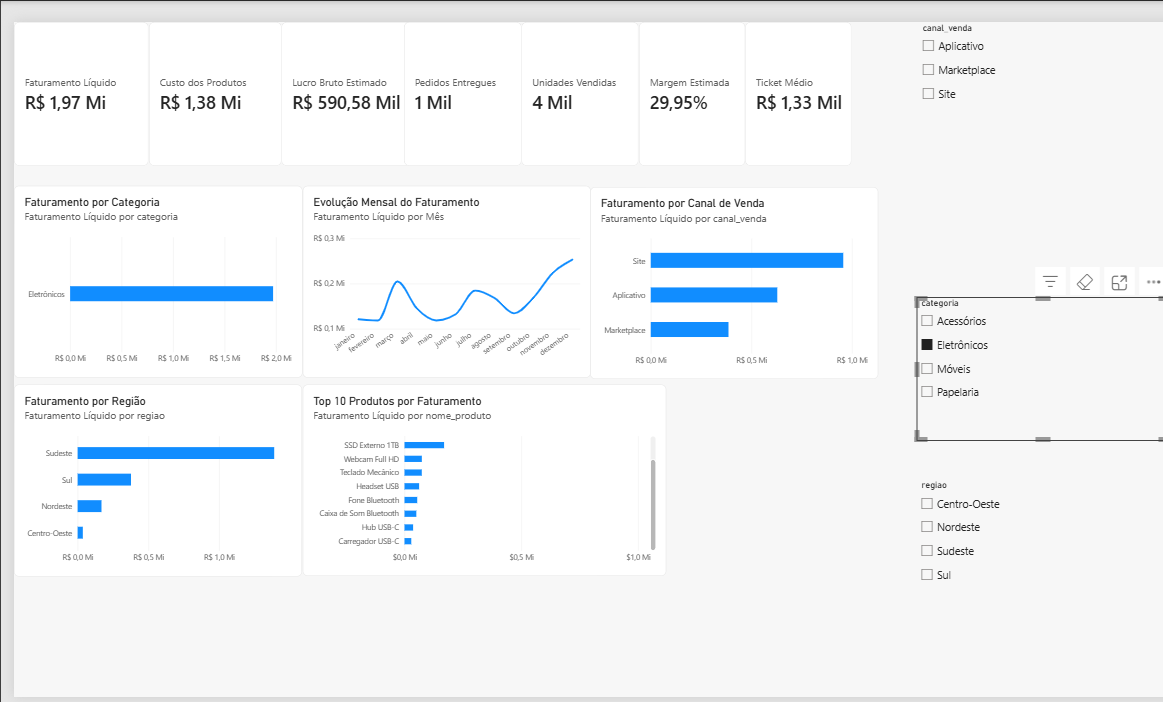

The dashboard page shown, as its layout file describes it:
{"tool":"powerbi","page":{"name":"Página 1","canvas":[1920,1080],"ordinal":0},"visuals":[{"type":"cardVisual","fields":{"Data":["itens_pedido.Faturamento Líquido"]},"box":[0,0,215.7,230],"z":0},{"type":"cardVisual","fields":{"Data":["itens_pedido.Custo dos Produtos"]},"box":[215.7,0,212.9,230],"z":1},{"type":"cardVisual","fields":{"Data":["itens_pedido.Lucro Bruto Estimado"]},"box":[428.6,0,207.1,230],"z":2},{"type":"cardVisual","fields":{"Data":["itens_pedido.Pedidos Entregues"]},"box":[624.3,0,188.6,230],"z":3},{"type":"cardVisual","fields":{"Data":["itens_pedido.Unidades Vendidas"]},"box":[812.9,0,187.1,230],"z":4},{"type":"cardVisual","fields":{"Data":["itens_pedido.Margem Estimada"]},"box":[1000,0,170,230],"z":5},{"type":"cardVisual","fields":{"Data":["itens_pedido.Ticket Médio"]},"box":[1170,0,170,230],"z":6},{"type":"clusteredBarChart","title":"Faturamento por Categoria","fields":{"Category":["produtos.categoria"],"Y":["itens_pedido.Faturamento Líquido"]},"box":[0,262.9,461.4,307.1],"z":7},{"type":"lineChart","title":"Evolução Mensal do Faturamento","fields":{"Category":["pedidos.data_pedido.Variation.Hierarquia de datas.Mês","pedidos.data_pedido.Variation.Hierarquia de datas.Dia"],"Y":["itens_pedido.Faturamento Líquido"]},"box":[461.4,262.9,461,307],"z":8},{"type":"clusteredBarChart","title":"Faturamento por Canal de Venda","fields":{"Category":["pedidos.canal_venda"],"Y":["itens_pedido.Faturamento Líquido"]},"box":[922.9,264.3,461,307],"z":9},{"type":"clusteredBarChart","title":"Faturamento por Região","fields":{"Category":["clientes.regiao"],"Y":["itens_pedido.Faturamento Líquido"]},"box":[0,580,461,307],"z":10},{"type":"clusteredBarChart","title":"Top 10 Produtos por Faturamento","fields":{"Category":["produtos.nome_produto"],"Y":["itens_pedido.Faturamento Líquido"]},"box":[461.7,580,581.7,306.7],"z":11},{"type":"slicer","fields":{"Values":["clientes.regiao"]},"box":[1228.3,641.7,156.7,181.7],"z":12},{"type":"slicer","fields":{"Values":["produtos.categoria"]},"box":[1053.3,733.3,201.7,171.7],"z":13},{"type":"slicer","fields":{"Values":["pedidos.canal_venda"]},"box":[1051.7,580,288.3,230],"z":14}]}

Visuals, with their boxes on the page's 1920x1080 design canvas (x1, y1, x2, y2). These are canvas units, not pixel positions in the 1163x702 screenshot, which may show the page scaled, cropped or inside an application window:
cardVisual - itens_pedido.Faturamento Líquido: box=[0, 0, 216, 230]
cardVisual - itens_pedido.Custo dos Produtos: box=[216, 0, 429, 230]
cardVisual - itens_pedido.Lucro Bruto Estimado: box=[429, 0, 636, 230]
cardVisual - itens_pedido.Pedidos Entregues: box=[624, 0, 813, 230]
cardVisual - itens_pedido.Unidades Vendidas: box=[813, 0, 1000, 230]
cardVisual - itens_pedido.Margem Estimada: box=[1000, 0, 1170, 230]
cardVisual - itens_pedido.Ticket Médio: box=[1170, 0, 1340, 230]
"Faturamento por Categoria" clusteredBarChart: box=[0, 263, 461, 570]
"Evolução Mensal do Faturamento" lineChart: box=[461, 263, 922, 570]
"Faturamento por Canal de Venda" clusteredBarChart: box=[923, 264, 1384, 571]
"Faturamento por Região" clusteredBarChart: box=[0, 580, 461, 887]
"Top 10 Produtos por Faturamento" clusteredBarChart: box=[462, 580, 1043, 887]
slicer - clientes.regiao: box=[1228, 642, 1385, 823]
slicer - produtos.categoria: box=[1053, 733, 1255, 905]
slicer - pedidos.canal_venda: box=[1052, 580, 1340, 810]
